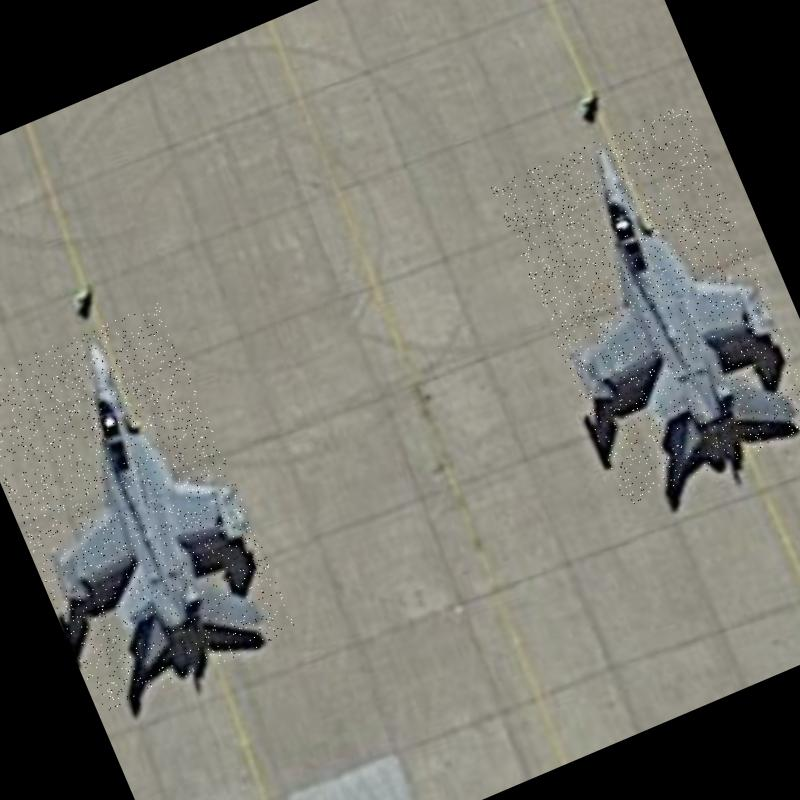A16: (490, 103, 800, 507), (0, 300, 298, 713)
